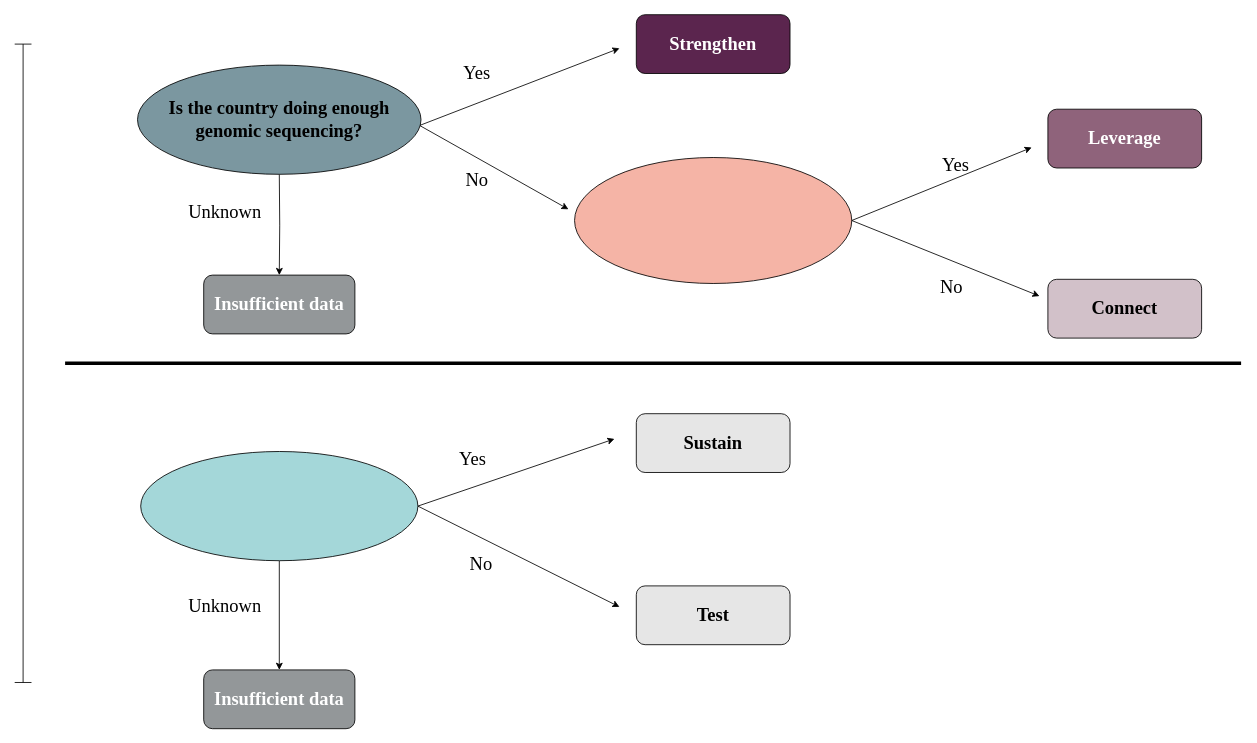
Some shapes in this 1257 by 743 pixel diagram are drawn without their labels. Here are the shapes that lost their labels. From the top down, the centre of each, then its label:
pixel 713 220: Does the country have access to NGS facilities?
pixel 279 506: Is the country doing enough testing ?
